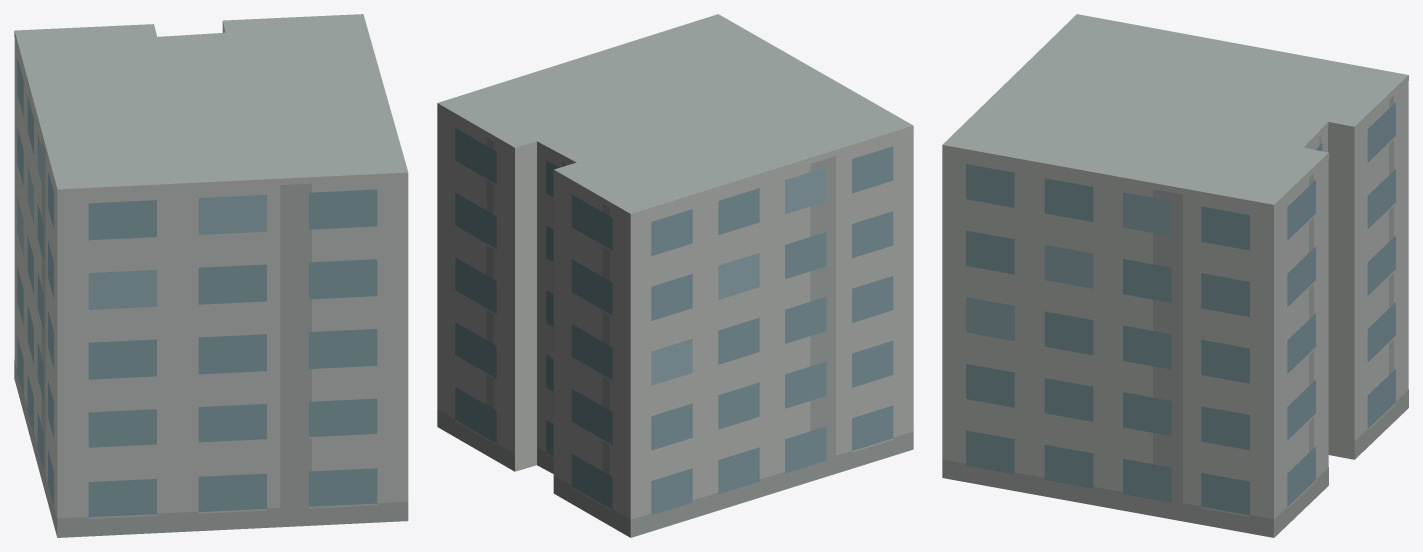
File: survey-upis-32888600.glb
3 renders of one model, left to right at view 1: azimuth 30°, elevation 25°; view 2: azimuth 150°, elevation 25°; view 3: azimuth 270°, elevation 25°, orthographic. The views are drawn at different scales.
Parts seen in each view (by area): view 1: survey-upis-32888600.tmp; view 2: survey-upis-32888600.tmp; view 3: survey-upis-32888600.tmp.
Part boxes in pixels (left/top/right/bottom): survey-upis-32888600.tmp: left=14, top=14, right=408, bottom=537; survey-upis-32888600.tmp: left=437, top=14, right=913, bottom=537; survey-upis-32888600.tmp: left=942, top=14, right=1408, bottom=537.
Size of the model in its own units: 16.11 by 13.1 by 16.64.
